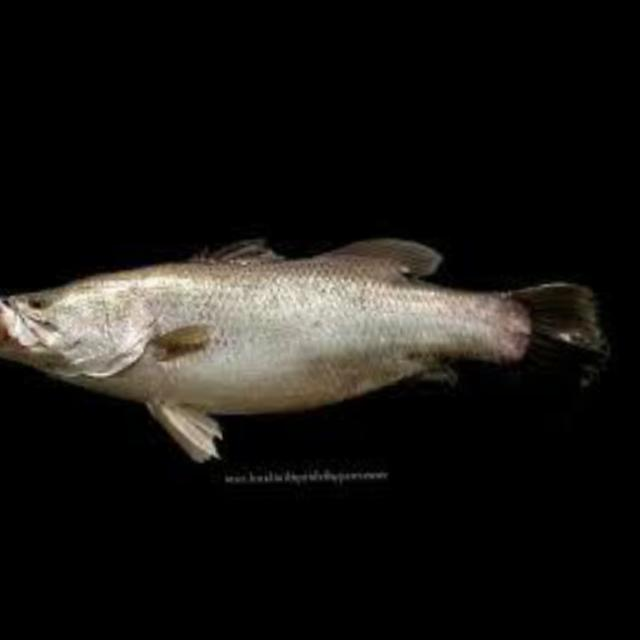Seabass: (0, 164, 633, 529)
